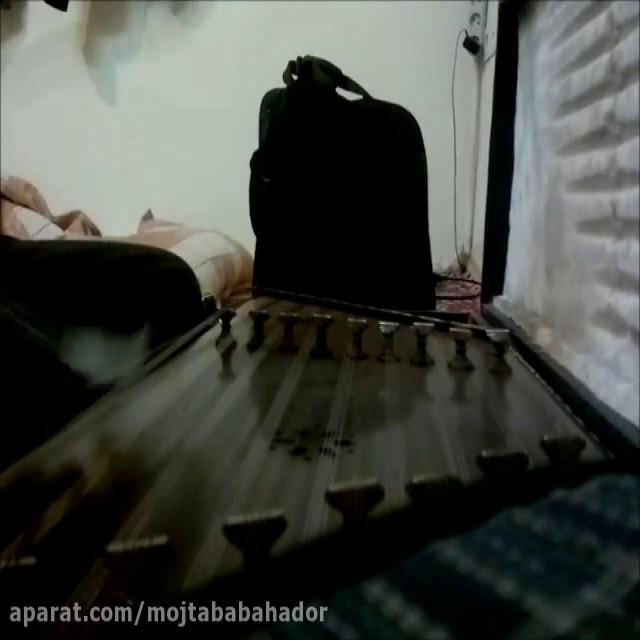Santur: (0, 271, 627, 630)
